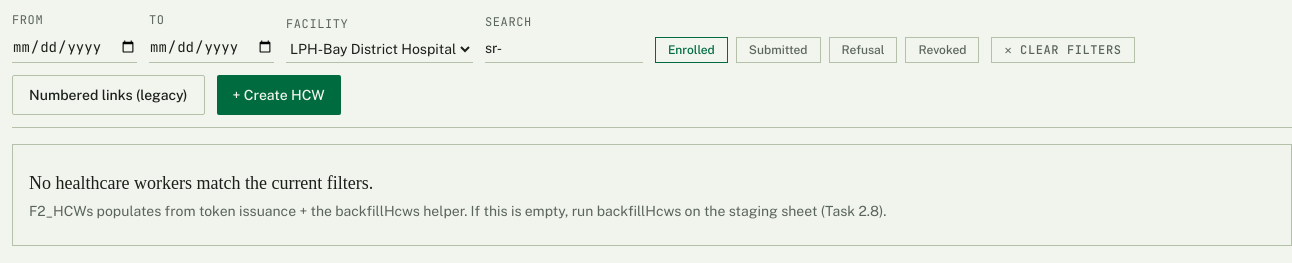
Test: <HCWsTab /> filter bar › Clear filters resets a deep-linked view and hides itself
The image size is (1292, 263).
Click the button "✕ Clear filters". click: (1063, 50)
box: [992,37,1134,63]
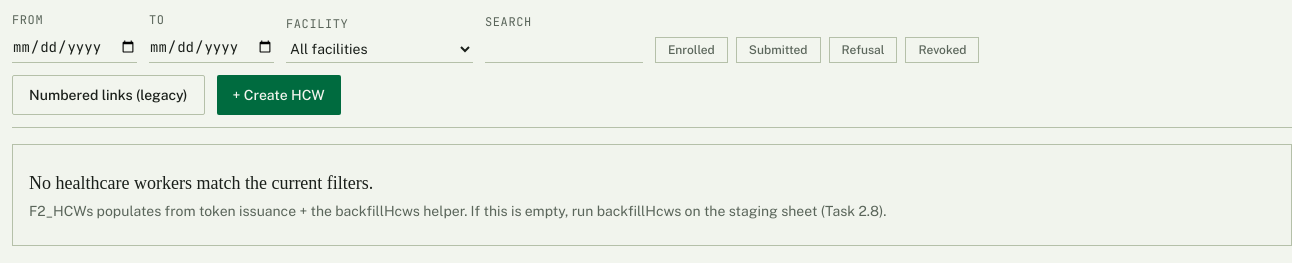
Expected: the button "Clear filters" is gone
